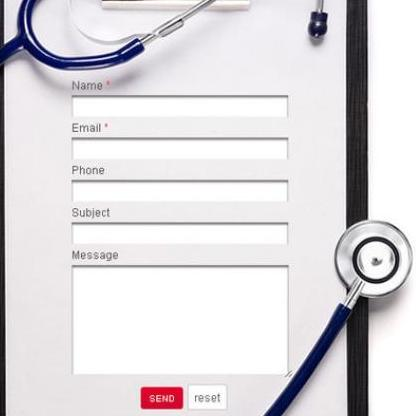button: (185, 383, 228, 410), (141, 386, 184, 410)
field: (69, 263, 290, 376), (70, 135, 289, 163), (70, 177, 289, 205), (69, 92, 290, 118), (70, 221, 290, 247)
